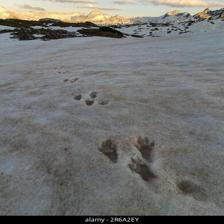squirrel: (94, 136, 120, 163), (131, 135, 155, 164)
